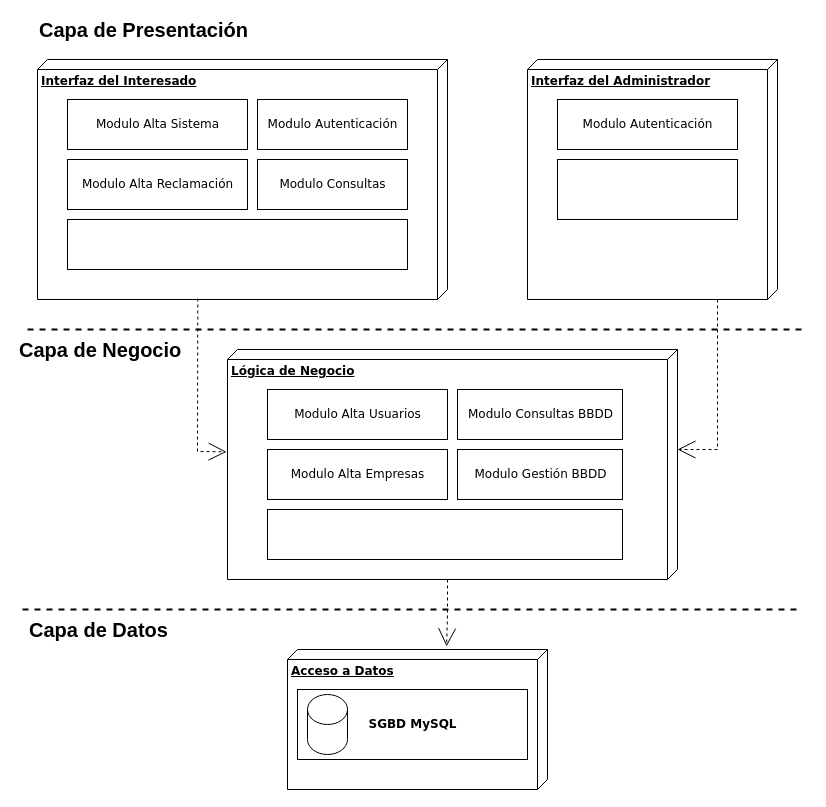
This 826x807 diagram has some shape labels left out. Each missing label, with the centre of its shape:
Modulo Gestión Reclamación: point 444,534
Modulo Gestión Tablas De la Aplicación: point 647,189
Modulo Información Derechos RGPD: point 237,244
